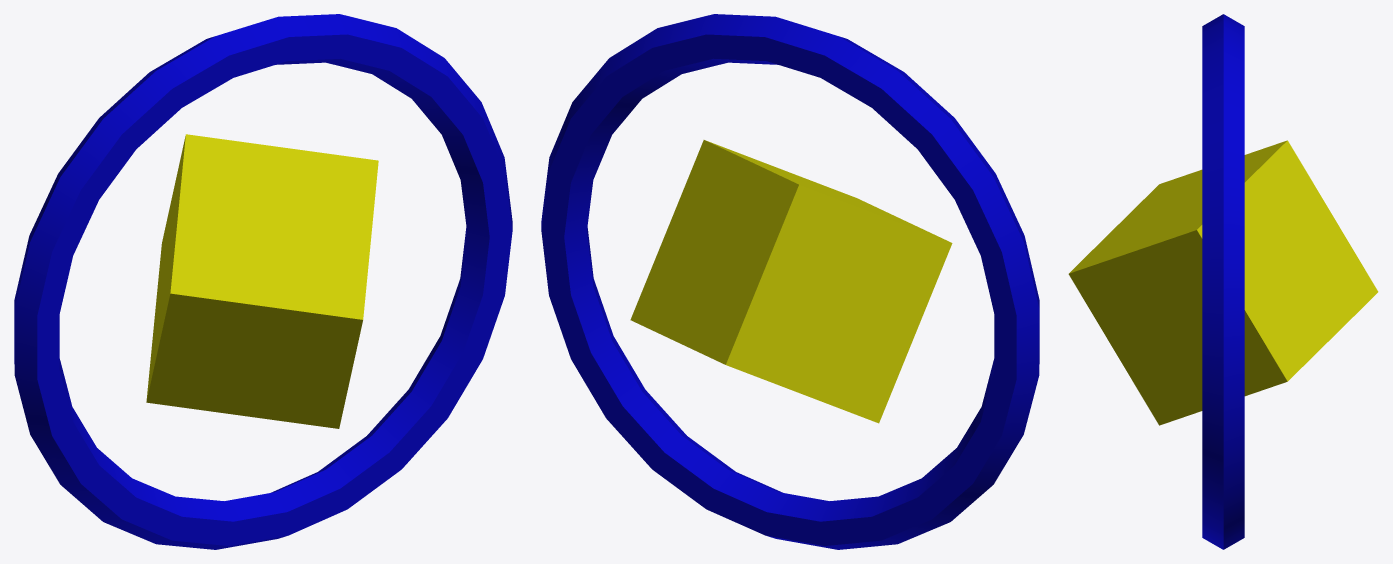
Rendered from PowerUp_AlphaStrike.fbx.
The picture shows the model from 3 angles, left to right: view 1: azimuth 30°, elevation 25°; view 2: azimuth 150°, elevation 25°; view 3: azimuth 270°, elevation 25°; orthographic projection. The views are drawn at different scales.
Parts seen in each view (by area): view 1: pTorus1, pCube1; view 2: pTorus1, pCube1; view 3: pCube1, pTorus1.
Part boxes in pixels (x1,y1,x2,y2): pTorus1: (14, 14, 512, 549); pCube1: (146, 134, 378, 428); pTorus1: (541, 14, 1039, 549); pCube1: (630, 140, 952, 423); pCube1: (1068, 140, 1378, 425); pTorus1: (1202, 14, 1244, 549).
Bounding box in the file's own units: 3.83 × 3.84 × 2.22.
